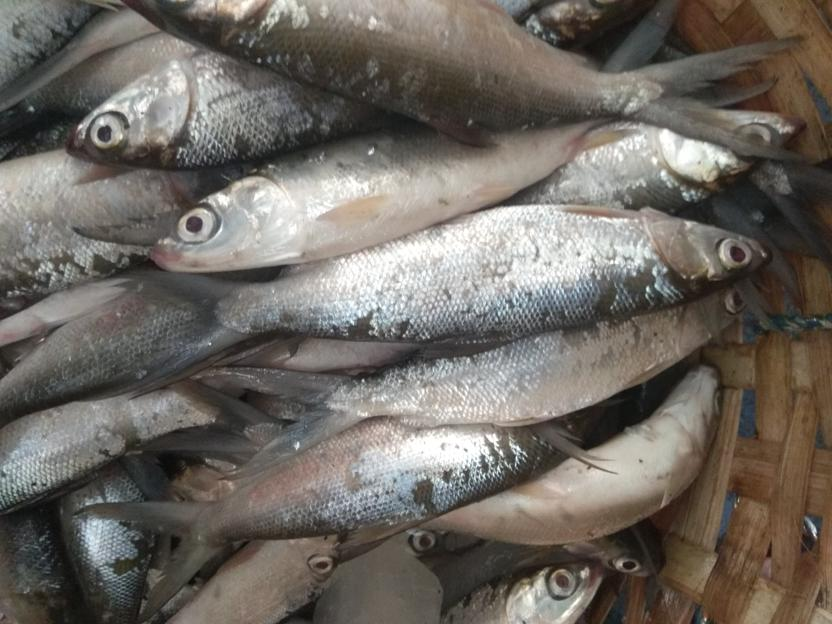Fish head: (150, 172, 300, 274), (66, 58, 196, 171), (654, 104, 804, 193), (648, 211, 771, 298), (768, 156, 831, 268), (654, 364, 722, 465), (563, 517, 667, 578), (504, 560, 602, 624), (674, 291, 749, 357), (289, 534, 341, 586), (405, 524, 450, 560)
Fish tail: (627, 33, 810, 164), (78, 266, 250, 400), (192, 362, 355, 481), (74, 497, 225, 623), (129, 377, 272, 459), (71, 207, 185, 247)
